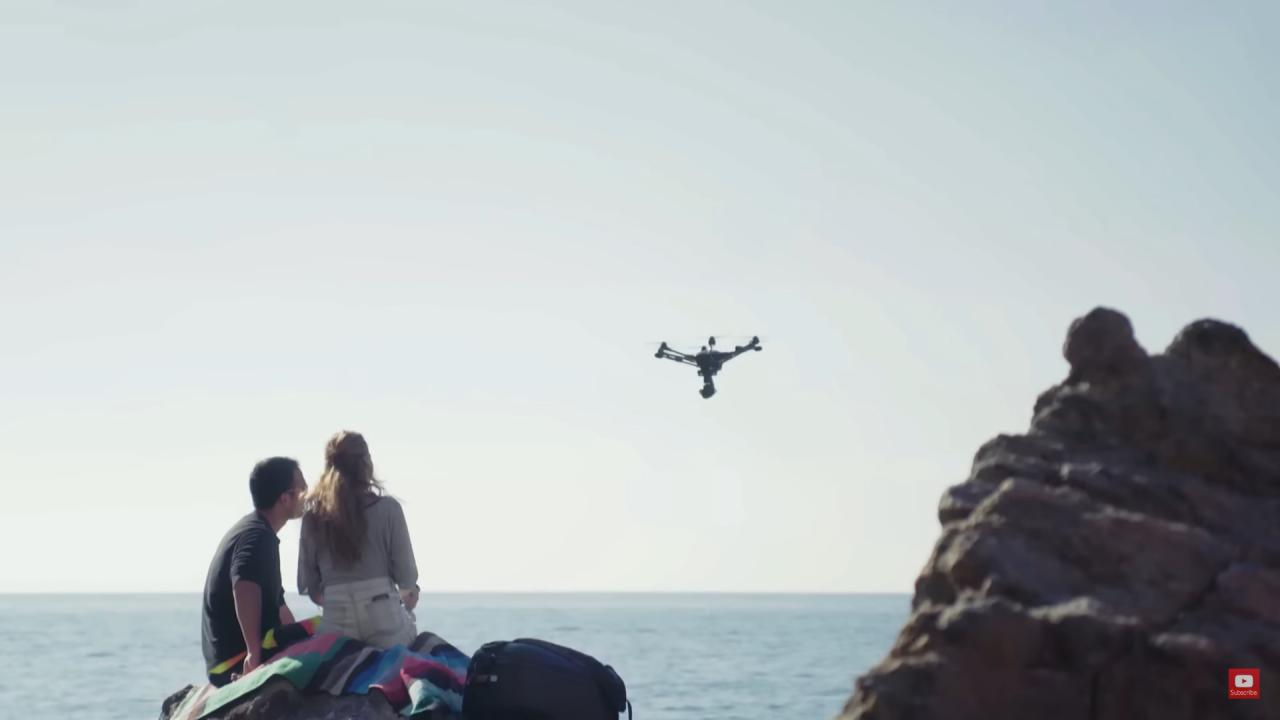Drone: (630, 324, 779, 409)
